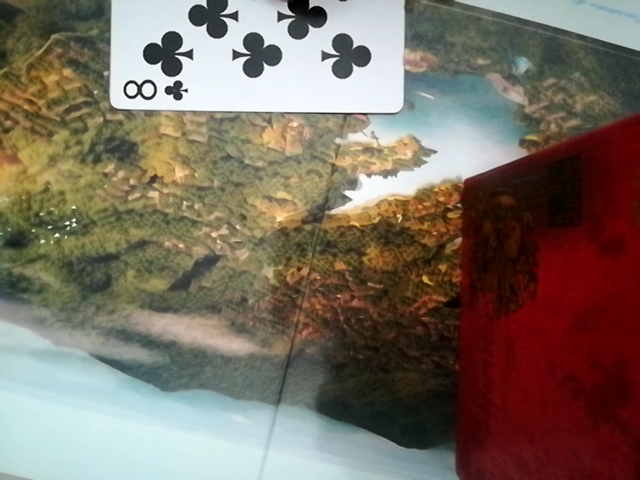mh 8: (103, 1, 406, 118)
